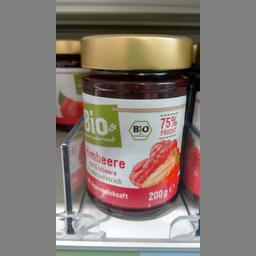jam: (78, 34, 194, 220)
